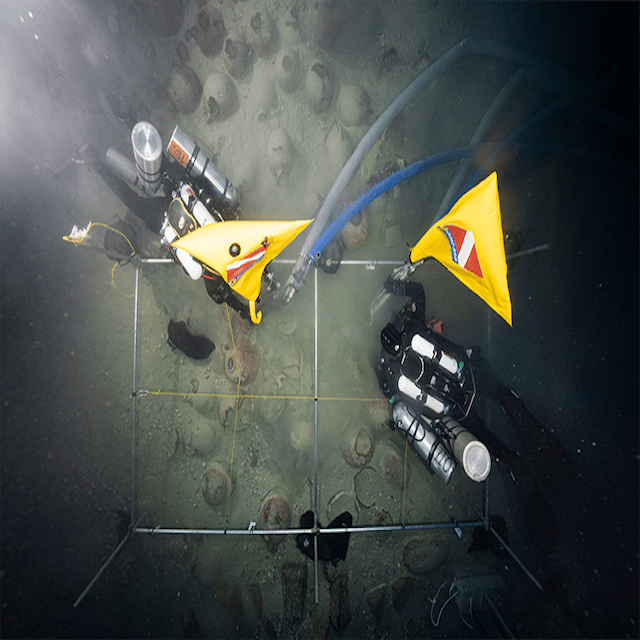amphora: (255, 485, 293, 550), (266, 125, 300, 186), (161, 62, 203, 110), (303, 57, 339, 111), (197, 463, 239, 508), (200, 72, 241, 118), (183, 416, 226, 459), (248, 75, 287, 122), (221, 337, 264, 379), (376, 441, 415, 486), (191, 6, 227, 53), (338, 201, 372, 250), (218, 388, 256, 431), (334, 83, 373, 123), (338, 423, 377, 462), (326, 123, 357, 172), (273, 43, 302, 89), (251, 11, 283, 52), (218, 36, 254, 71), (183, 379, 219, 411)
